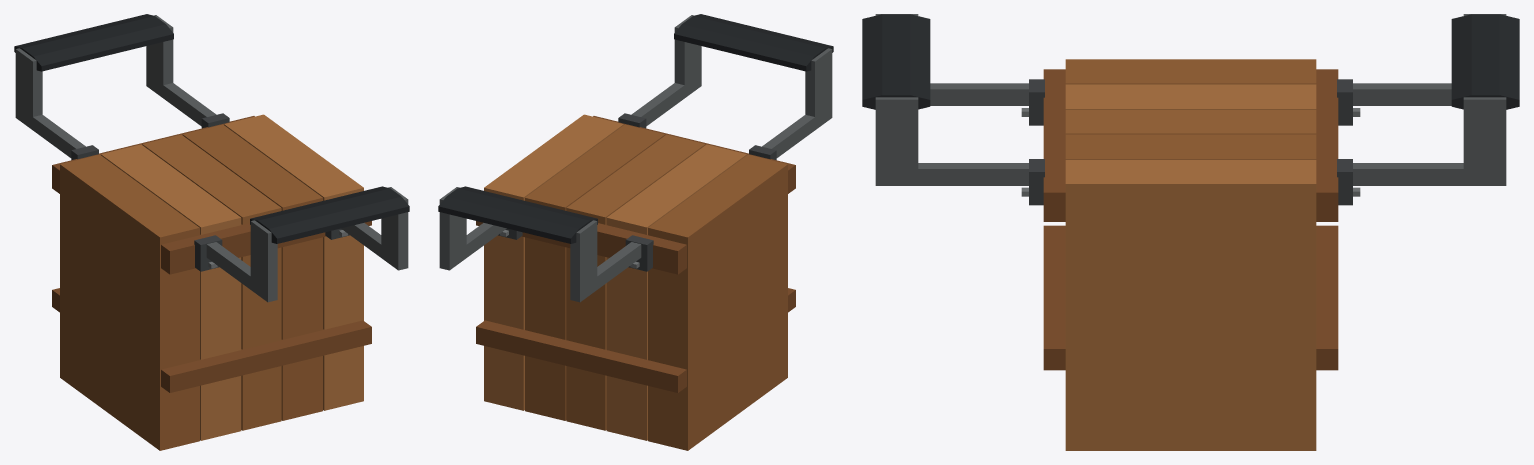
The model's file is Barricade.obj.
3 views of the same model, side by side, from view 1: azimuth 30°, elevation 25°; view 2: azimuth 150°, elevation 25°; view 3: azimuth 270°, elevation 25° (orthographic). The views are drawn at different scales.
Parts seen in each view (by area): view 1: Barricade; view 2: Barricade; view 3: Barricade.
Boxes of the visible parts, x1=… form: Barricade: x1=14, y1=14, x2=409, y2=450; Barricade: x1=438, y1=14, x2=833, y2=450; Barricade: x1=862, y1=14, x2=1519, y2=450.
Size of the model in its own units: 2 by 2.5 by 4.46.
Materials: 1 (1 with a texture image).
